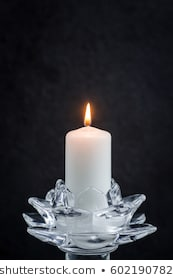Fire: (82, 99, 92, 128)
